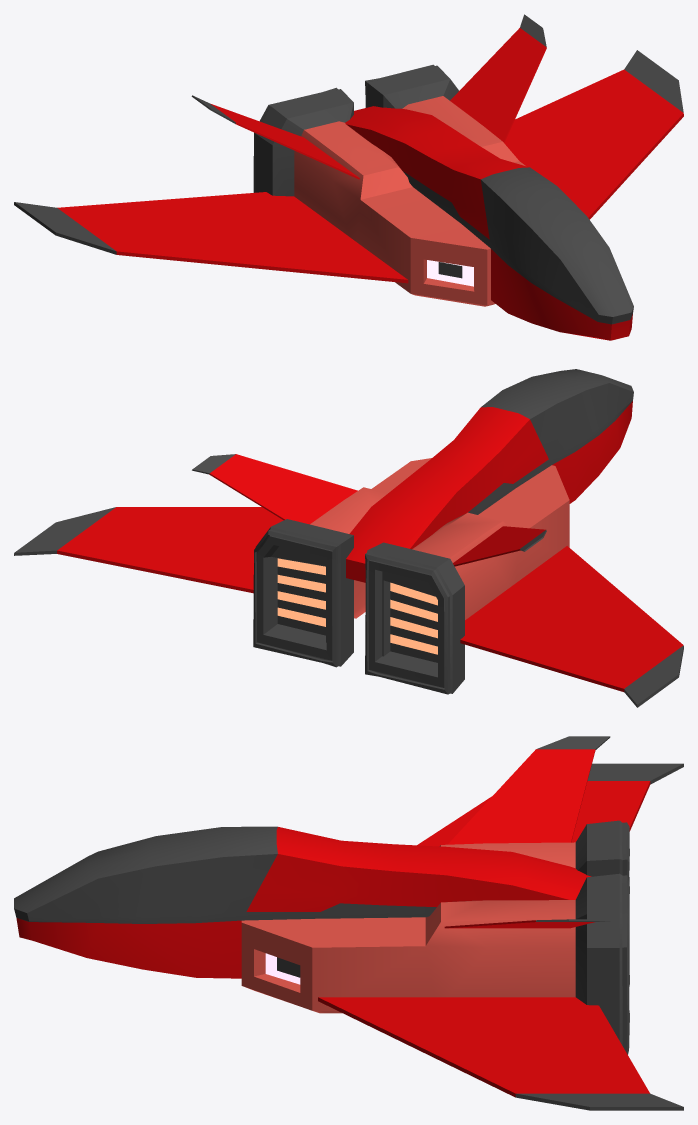
The picture shows the model from 3 angles, top to bottom: view 1: azimuth 30°, elevation 25°; view 2: azimuth 150°, elevation 25°; view 3: azimuth 270°, elevation 25°; orthographic projection. The views are drawn at different scales.
Parts seen in each view (by area): view 1: Cube.018; view 2: Cube.018; view 3: Cube.018.
Part boxes in pixels (x1=…): Cube.018: x1=14, y1=14, x2=683, y2=340; Cube.018: x1=14, y1=369, x2=683, y2=707; Cube.018: x1=14, y1=736, x2=683, y2=1110.
Size of the model in its own units: 20.54 by 4.94 by 16.93.
